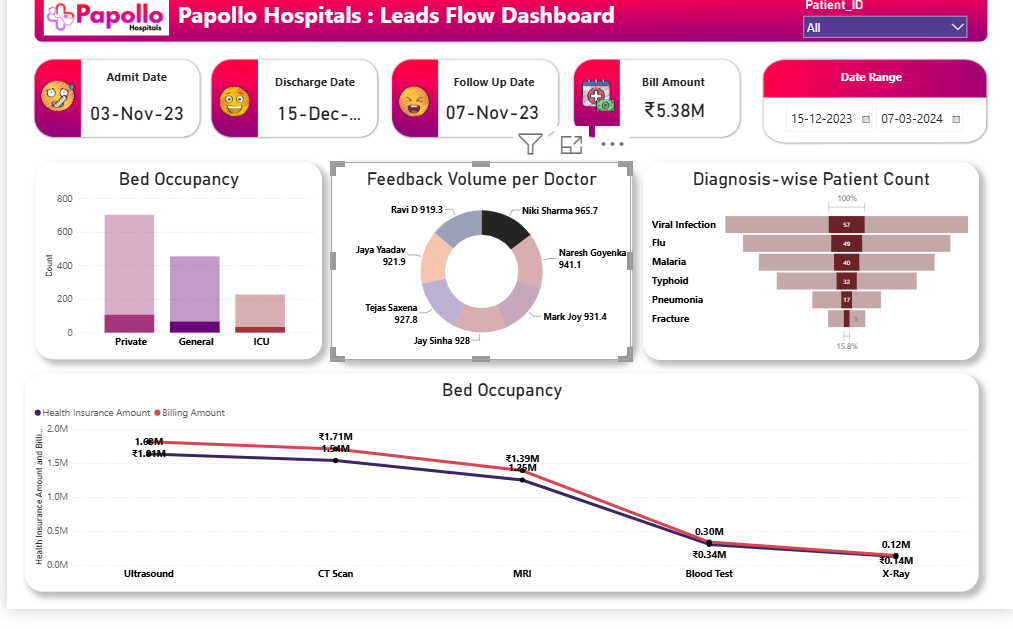

The page's visual inventory and layout, read from the dashboard file:
{"tool":"powerbi","page":{"name":"dashboard","canvas":[1680,1050],"ordinal":0},"visuals":[{"type":"textbox","box":[280,27.1,755.7,74.3],"z":0},{"type":"image","box":[2636.7,100,623.3,150],"z":1000},{"type":"slicer","fields":{"Values":["Sheet1.Patient_ID"]},"box":[2400,373.3,793.3,420],"z":2000},{"type":"card","fields":{"Values":["Min(Sheet1.Admit_Date)"]},"box":[437.6,198.8,162.9,42.8],"z":3000},{"type":"card","fields":{"Values":["Min(Sheet1.Discharge_Date)"]},"box":[129.8,198.8,172.6,42.8],"z":4000},{"type":"card","fields":{"Values":["Min(Sheet1.Followup Date)"]},"box":[724.3,198.6,167.1,42.9],"z":5000},{"type":"textbox","box":[152.9,145.7,127.1,57.1],"z":6000},{"type":"textbox","box":[437.1,151.4,151.4,37.1],"z":7000},{"type":"textbox","box":[732.9,151.4,158.6,37.1],"z":8000},{"type":"textbox","box":[1035.7,151.4,151.4,37.1],"z":9000},{"type":"card","fields":{"Values":["Sum(Sheet1.Billing Amount)"]},"box":[1031.4,194.3,158.6,42.9],"z":10000},{"type":"image","box":[50,157.1,68.6,74.3],"z":11000},{"type":"image","box":[348.6,172.9,62.9,62.9],"z":12000},{"type":"image","box":[640,171.4,77.1,62.9],"z":13000},{"type":"image","box":[951.4,158.6,65.7,71.4],"z":14000},{"type":"columnChart","title":"Bed Occupancy","fields":{"Category":["Sheet1.Bed_Occupancy"],"Y":["CountNonNull(Sheet1.Bed_Occupancy)"]},"box":[47.1,305.7,477.1,328.6],"z":15000},{"type":"donutChart","title":"Feedback Volume per Doctor","fields":{"Category":["Sheet1.Doctor"],"Y":["Sum(Sheet1.Feedback)"]},"box":[540.2,305.2,501,329.5],"z":16000},{"type":"funnel","title":"Diagnosis-wise Patient Count","fields":{"Category":["Sheet1.Diagnosis"],"Y":["CountNonNull(Sheet1.Diagnosis)"]},"box":[1060,305.7,560,330],"z":17000},{"type":"image","box":[30.2,27.8,271.4,71.9],"z":18000},{"type":"lineChart","title":"Bed Occupancy","fields":{"Y":["Sum(Sheet1.Health Insurance Amount)","Sum(Sheet1.Billing Amount)"],"Category":["Sheet1.Test"]},"box":[31.1,656.3,1589.5,363.3],"z":19000},{"type":"slicer","fields":{"Values":["Sheet1.Admit_Date"]},"box":[1284.3,201.2,360.6,68.9],"z":20000},{"type":"slicer","fields":{"Values":["Sheet1.Patient_ID"]},"box":[1317.1,24.3,292.9,82.9],"z":21000},{"type":"textbox","box":[1365.7,145.7,151.4,37.1],"z":22000}]}

Visuals, with their boxes in screenshot pixels (x1, y1, x2, y2), scaled from the page's 1680x1050 canvas onto the 1013x629 screenshot:
textbox: x1=169 y1=16 x2=625 y2=61
card - Min(Sheet1.Admit_Date): x1=264 y1=119 x2=362 y2=145
card - Min(Sheet1.Discharge_Date): x1=78 y1=119 x2=182 y2=145
card - Min(Sheet1.Followup Date): x1=437 y1=119 x2=537 y2=145
textbox: x1=92 y1=87 x2=169 y2=121
textbox: x1=264 y1=91 x2=355 y2=113
textbox: x1=442 y1=91 x2=538 y2=113
textbox: x1=625 y1=91 x2=716 y2=113
card - Sum(Sheet1.Billing Amount): x1=622 y1=116 x2=718 y2=142
image: x1=30 y1=94 x2=72 y2=139
image: x1=210 y1=104 x2=248 y2=141
image: x1=386 y1=103 x2=432 y2=140
image: x1=574 y1=95 x2=613 y2=138
"Bed Occupancy" columnChart: x1=28 y1=183 x2=316 y2=380
"Feedback Volume per Doctor" donutChart: x1=326 y1=183 x2=628 y2=380
"Diagnosis-wise Patient Count" funnel: x1=639 y1=183 x2=977 y2=381
image: x1=18 y1=17 x2=182 y2=60
"Bed Occupancy" lineChart: x1=19 y1=393 x2=977 y2=611
slicer - Sheet1.Admit_Date: x1=774 y1=121 x2=992 y2=162
slicer - Sheet1.Patient_ID: x1=794 y1=15 x2=971 y2=64
textbox: x1=823 y1=87 x2=915 y2=110
